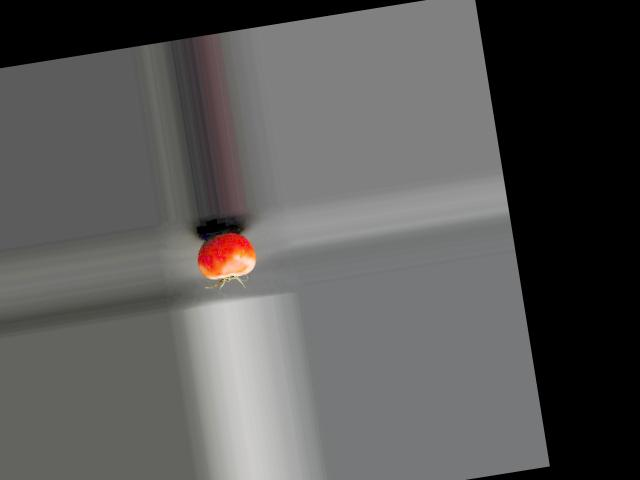tomato: (194, 229, 259, 281)
